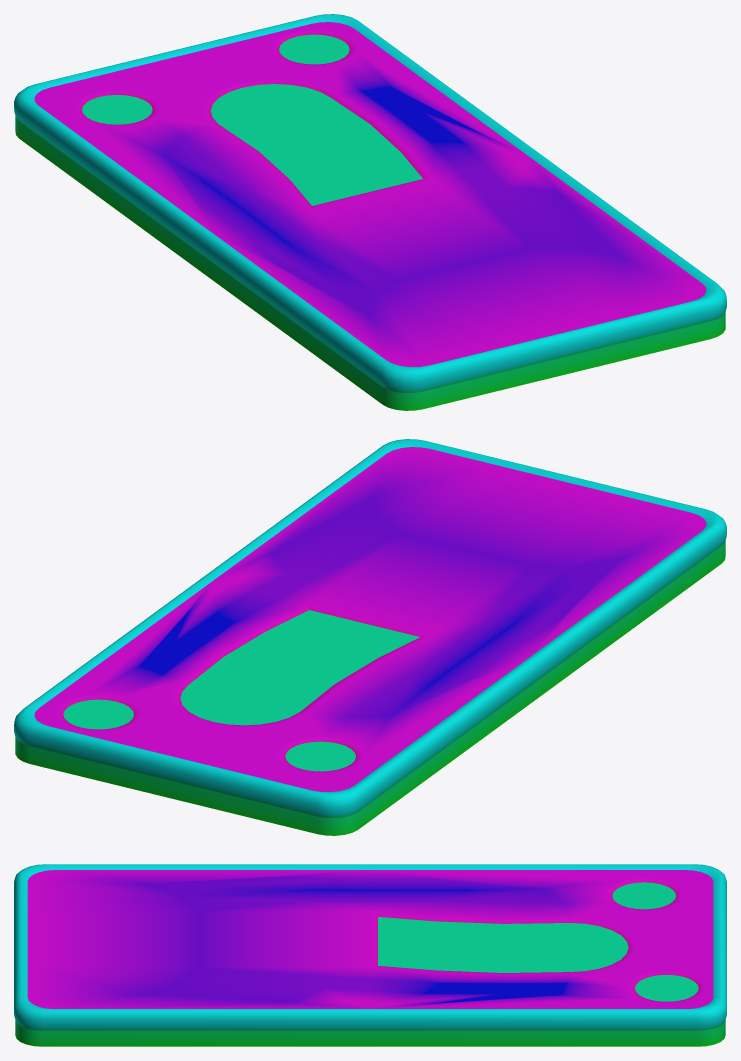
The model's file is Platform_Grass_Exp.fbx.
3 renders of one model, top to bottom at view 1: azimuth 30°, elevation 25°; view 2: azimuth 150°, elevation 25°; view 3: azimuth 270°, elevation 25°, orthographic. The views are drawn at different scales.
Parts seen in each view (by area): view 1: Platform_Grass_Exp; view 2: Platform_Grass_Exp; view 3: Platform_Grass_Exp.
Boxes of the visible parts, bbox=[...] form: Platform_Grass_Exp: bbox=[14, 14, 726, 410]; Platform_Grass_Exp: bbox=[14, 439, 726, 835]; Platform_Grass_Exp: bbox=[14, 864, 726, 1046].
Size of the model in its own units: 20 by 2.17 by 40.
